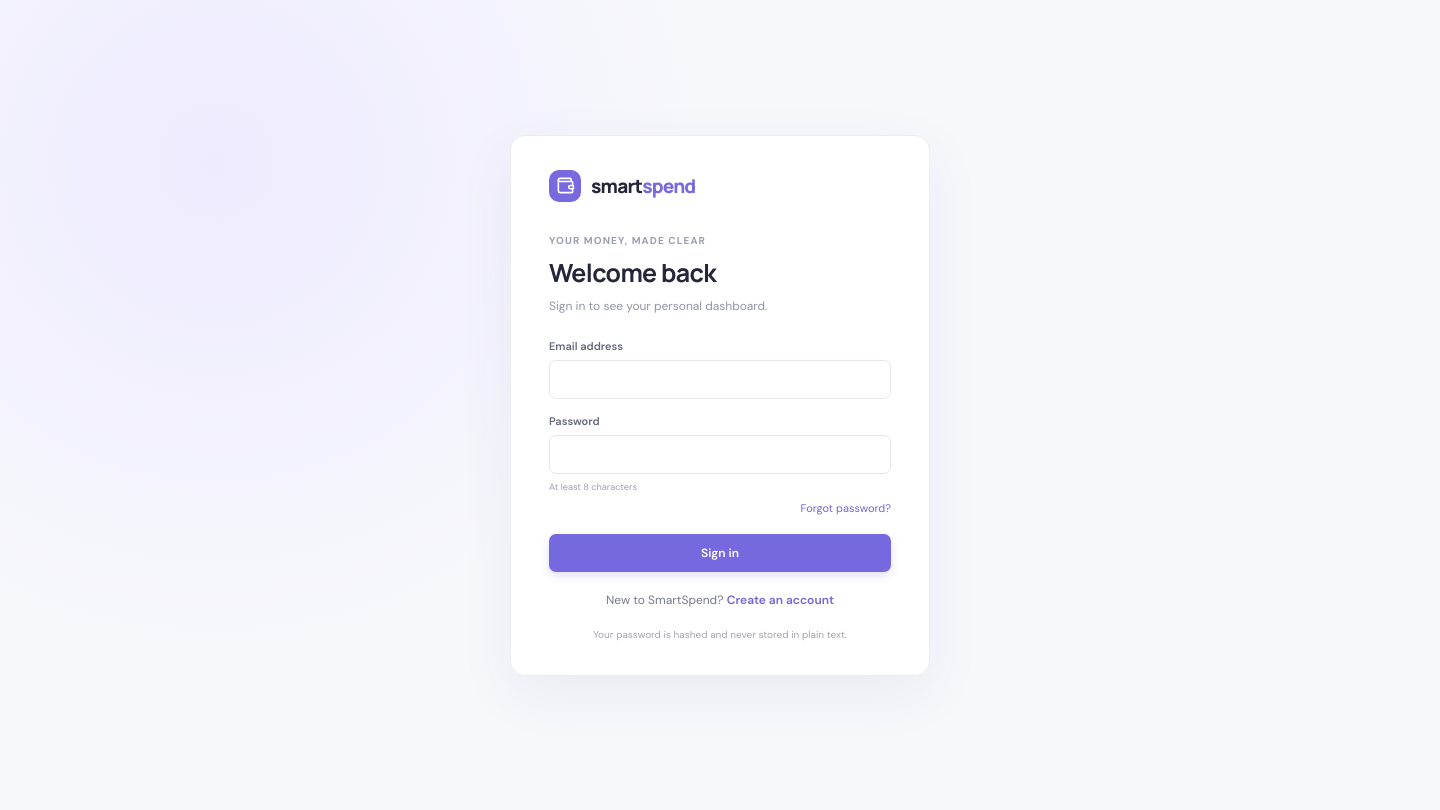
Scenario: SmartSpend authentication screens › submits only one login while a request is pending
Type "alex@example.com" into the field labelled "Email address" at (720, 379), box x1=549 y1=360 x2=891 y2=398
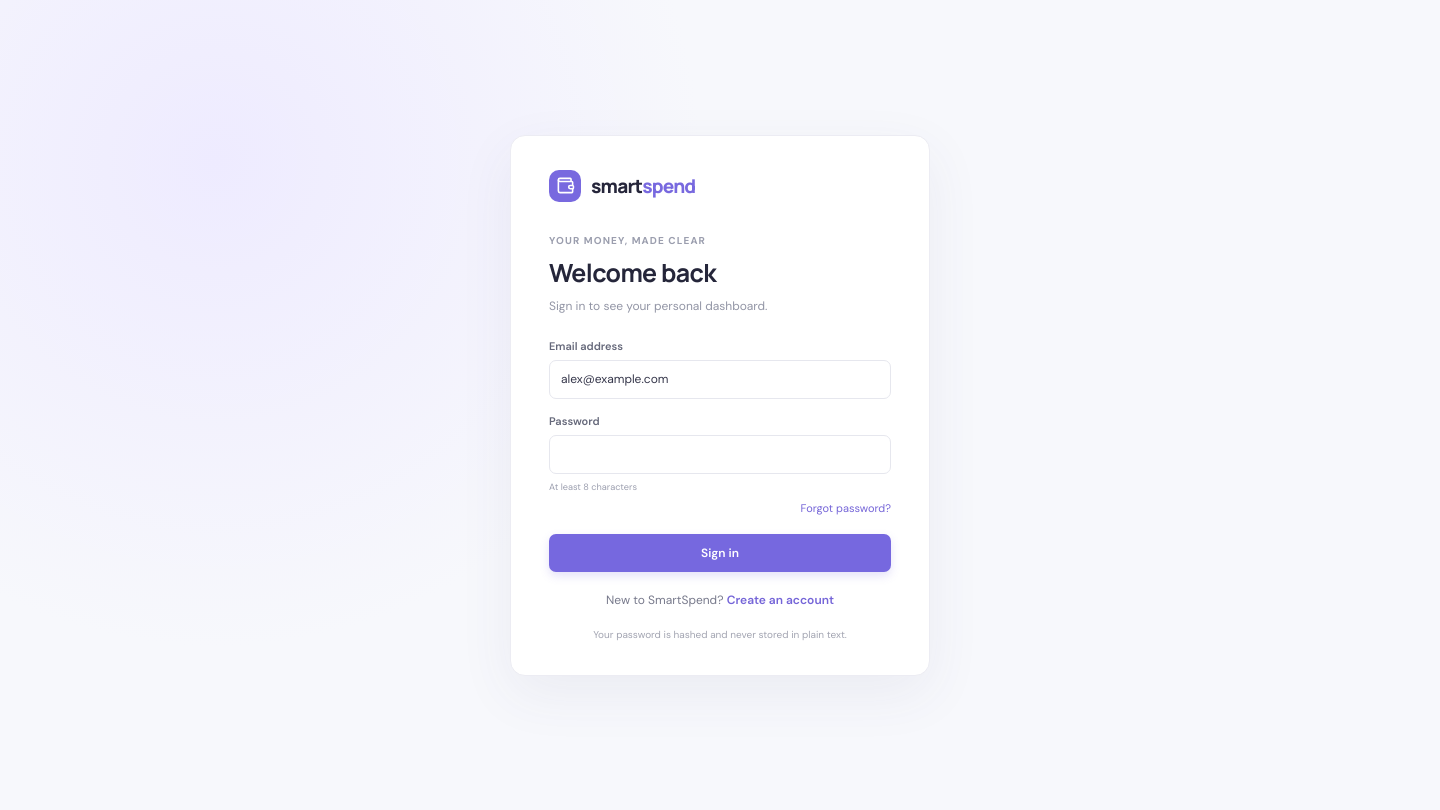
Type "correct horse 71" into the password field labelled "Password At least 8 characters" at (720, 454), box x1=549 y1=434 x2=891 y2=474
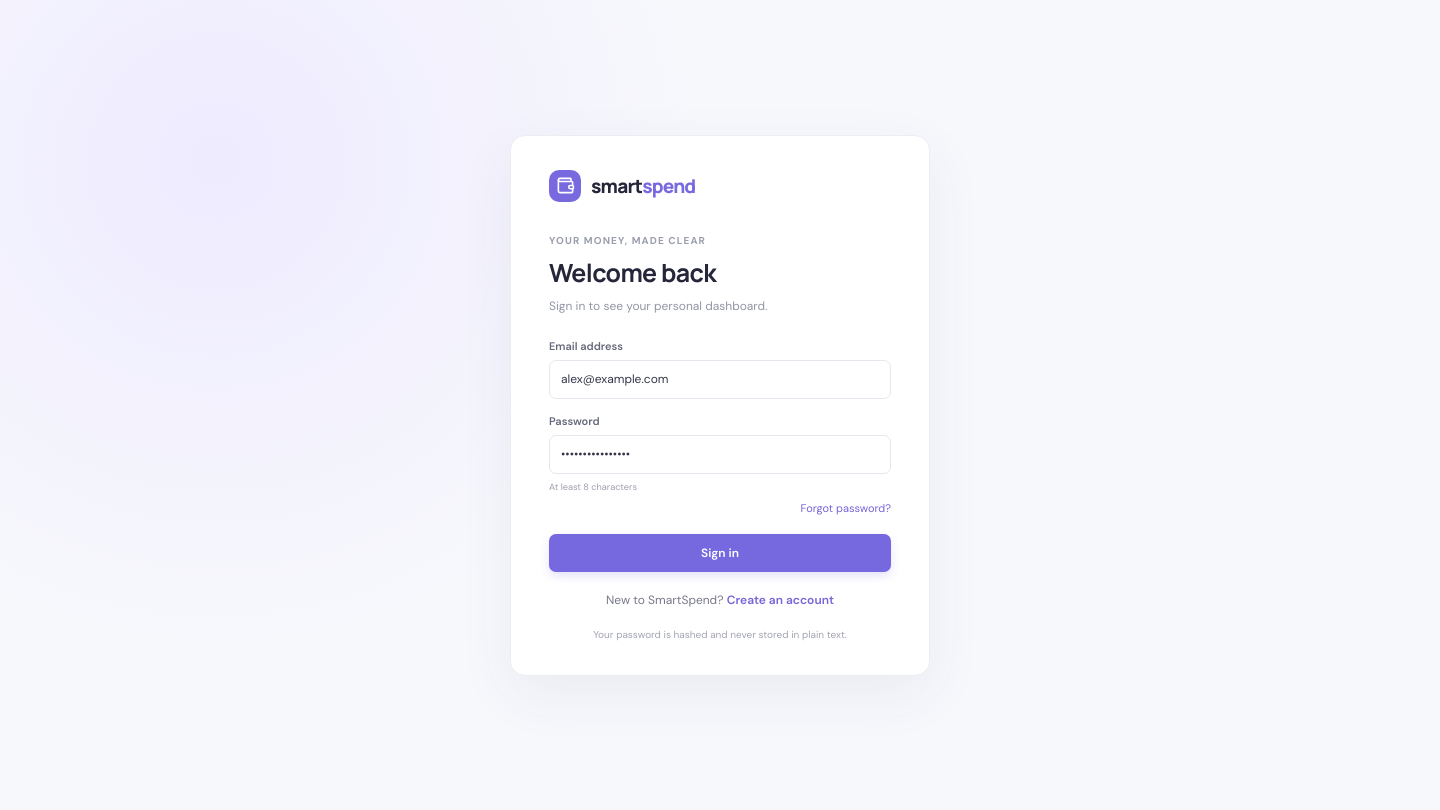
Submit the form, box x1=549 y1=338 x2=891 y2=572
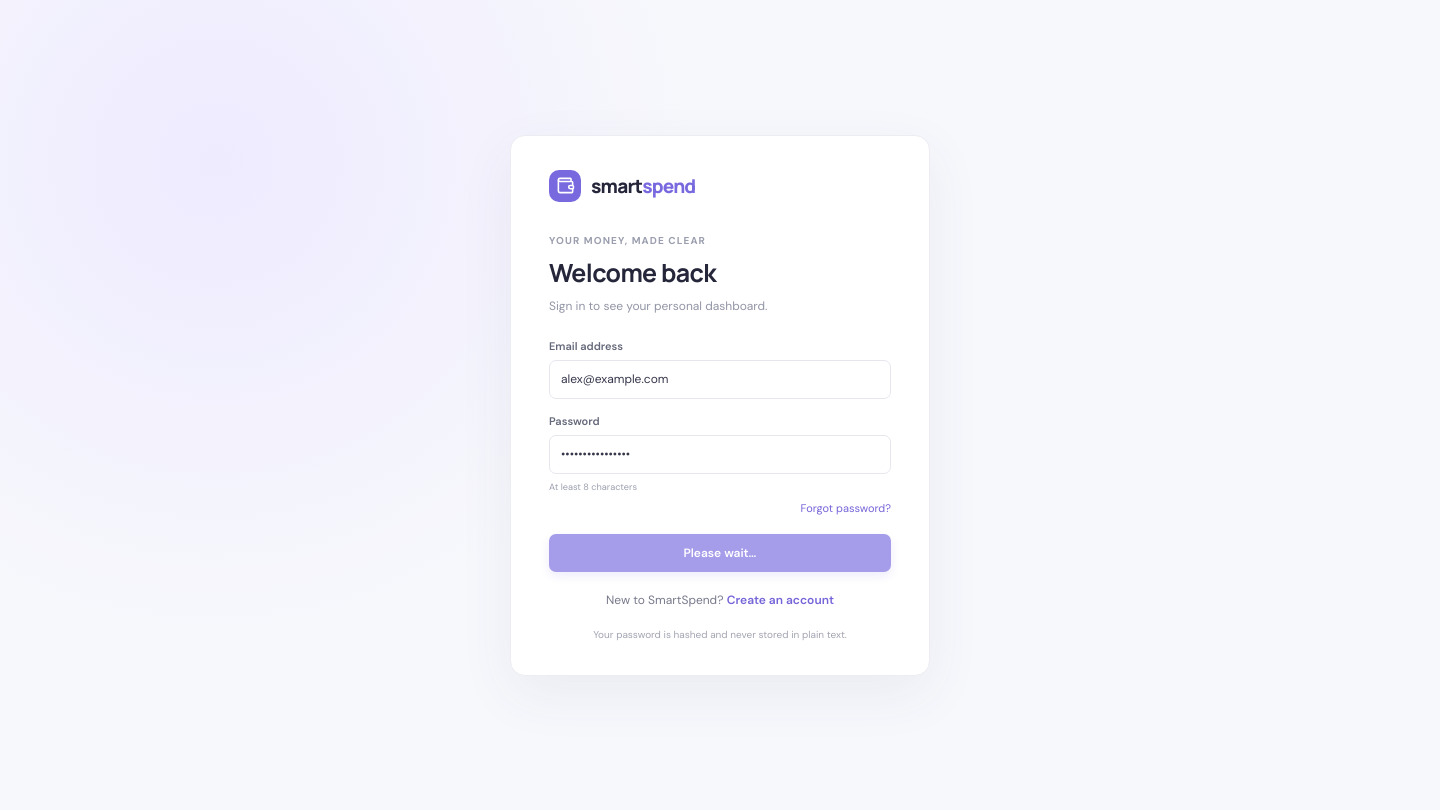
Submit the form, box x1=549 y1=338 x2=891 y2=572
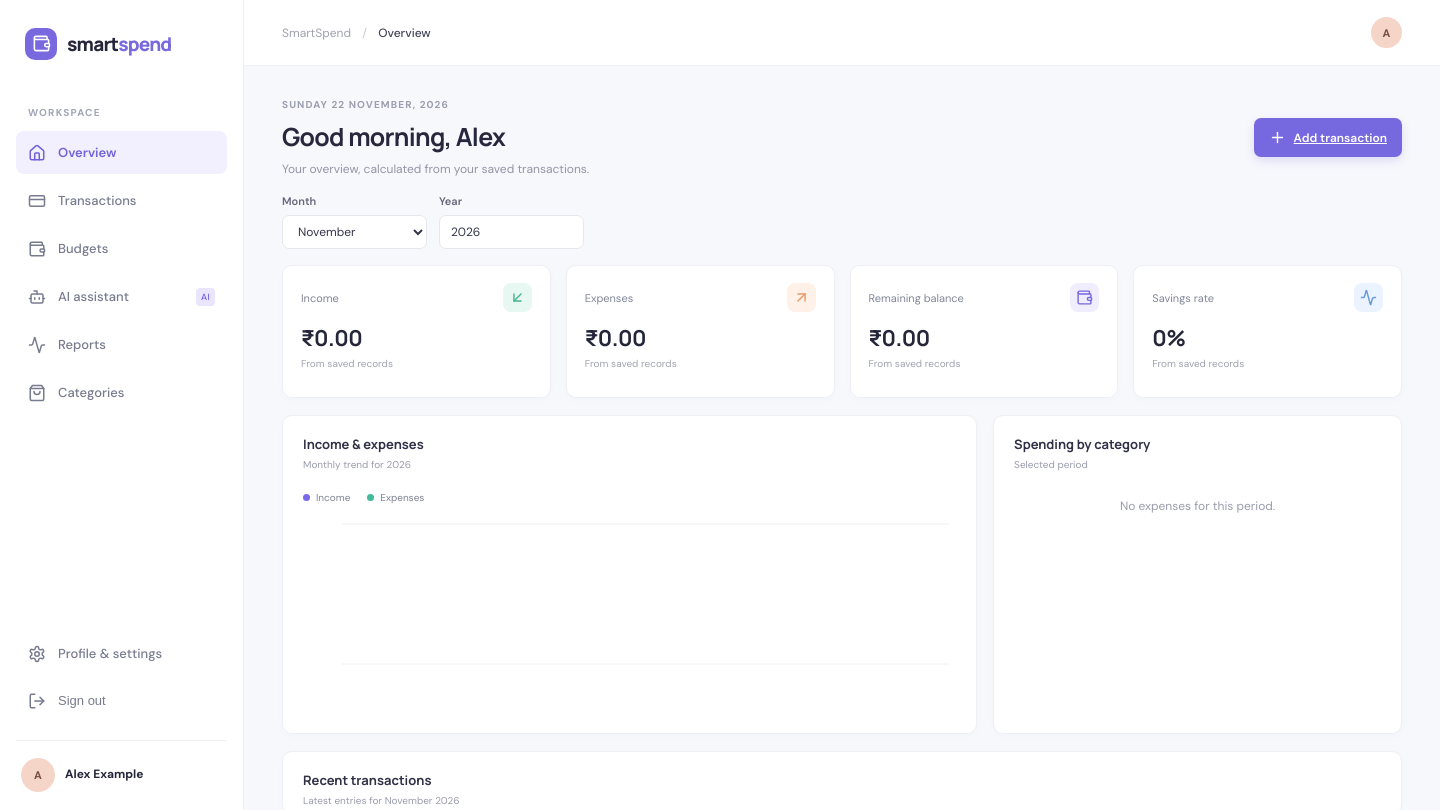
Result: the button "Sign out" is shown at x1=16 y1=679 x2=227 y2=722
